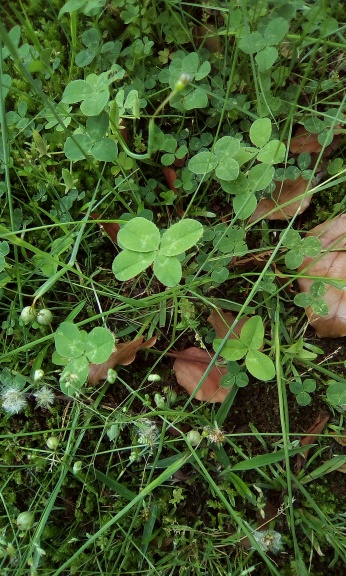4leaf: (111, 217, 205, 287)
